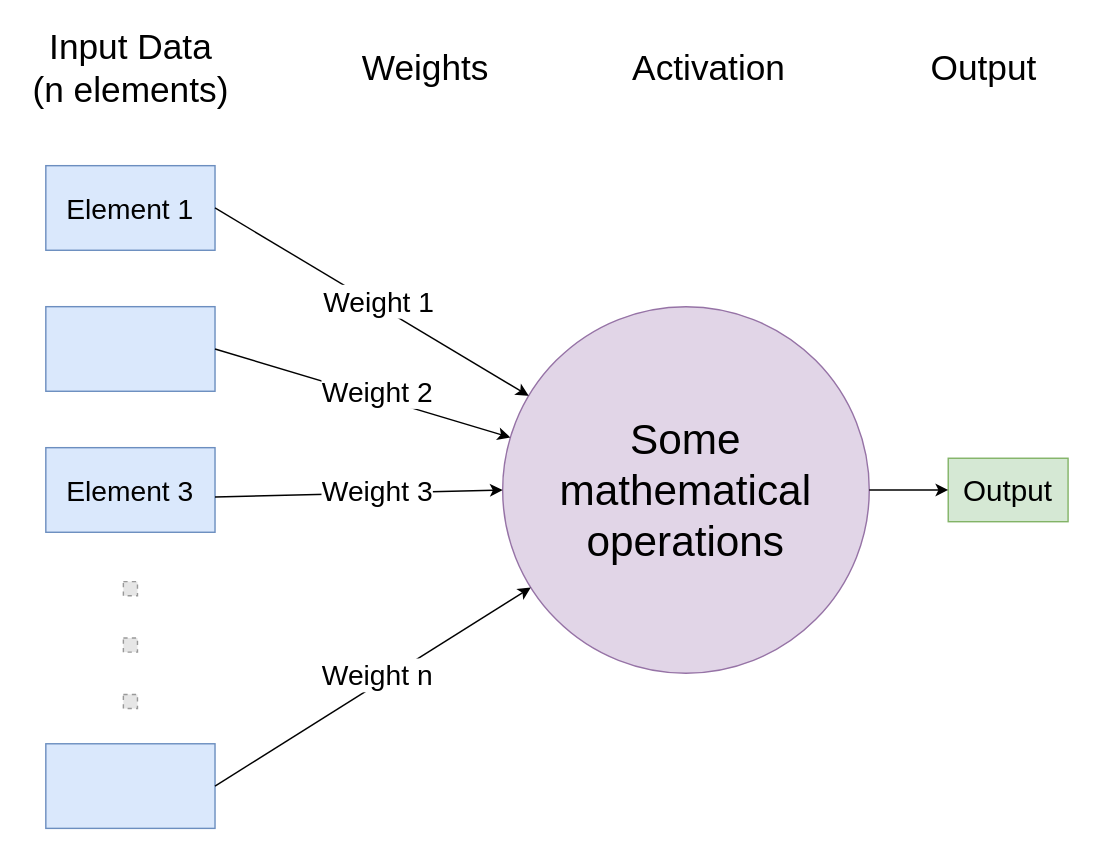
Some shapes in this 1093 by 853 pixel diagram are drawn without their labels. Grey dashed boxes stand in for pictures. Each missing label, with the centre of its shape:
"Element 2" goes at pixel 129 348.
"Element n" goes at pixel 129 785.
